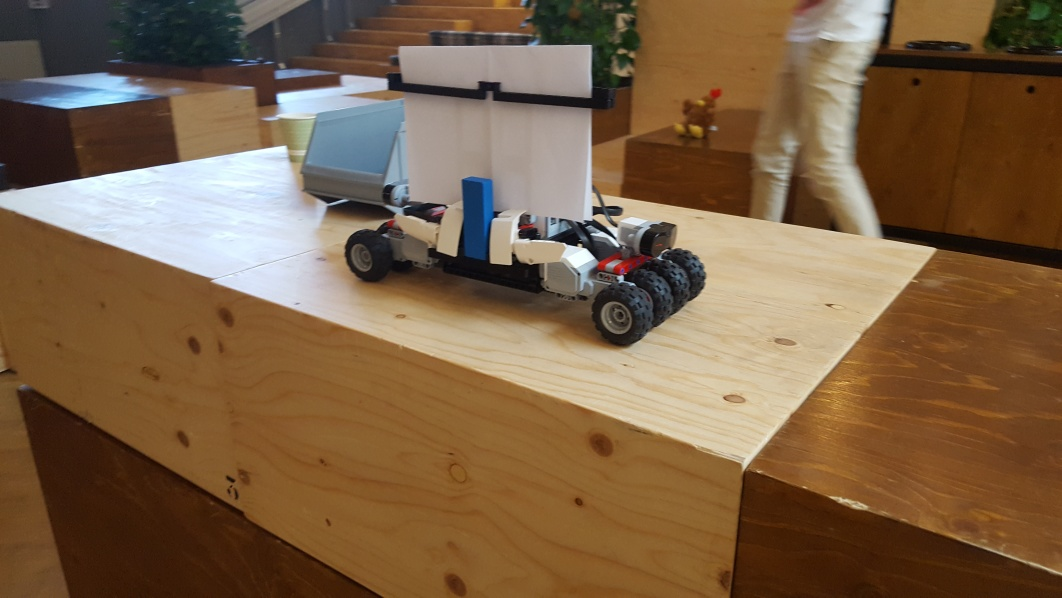car: (344, 42, 708, 347)
chicken: (673, 88, 729, 139)
cup: (280, 113, 313, 162)
tray: (300, 98, 409, 210)
